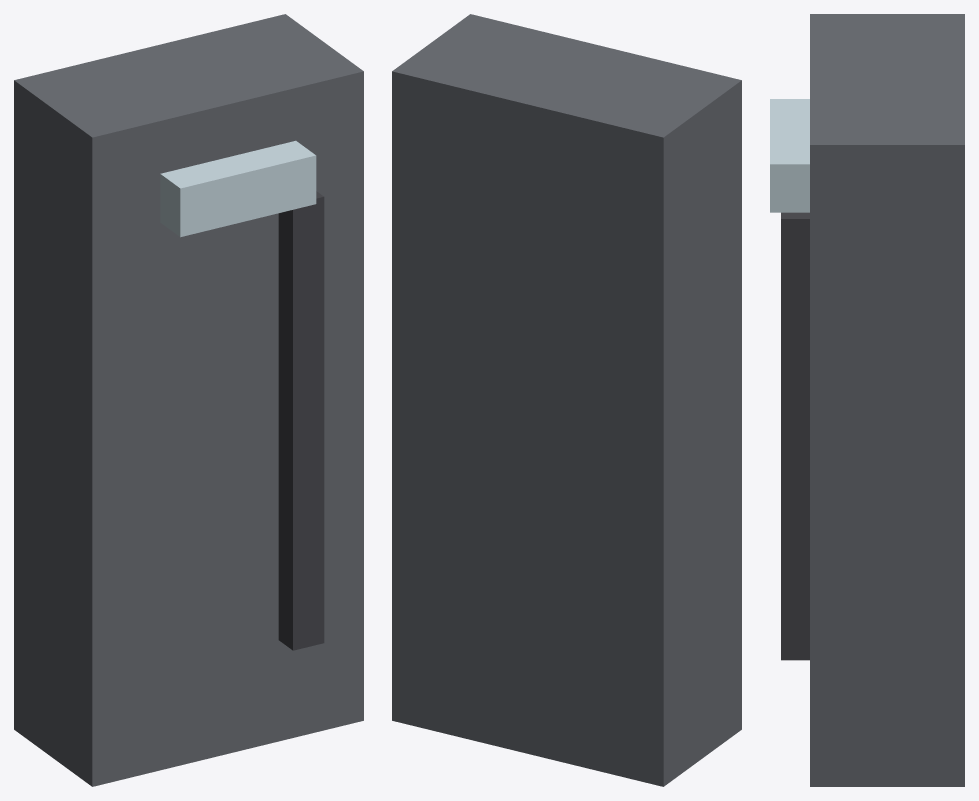
Rendered from bank-vault-heist-kit-card-reader-77f1bfc7__25107.glb.
The picture shows the model from 3 angles, left to right: view 1: azimuth 30°, elevation 25°; view 2: azimuth 150°, elevation 25°; view 3: azimuth 270°, elevation 25°; orthographic projection.
Parts seen in each view (by area): view 1: card-reader; view 2: card-reader; view 3: card-reader.
Boxes of the visible parts, <box> form: card-reader: <box>14,14,363,786</box>; card-reader: <box>392,14,741,786</box>; card-reader: <box>770,14,964,786</box>.
Size of the model in its own units: 0.07 by 0.16 by 0.044.
